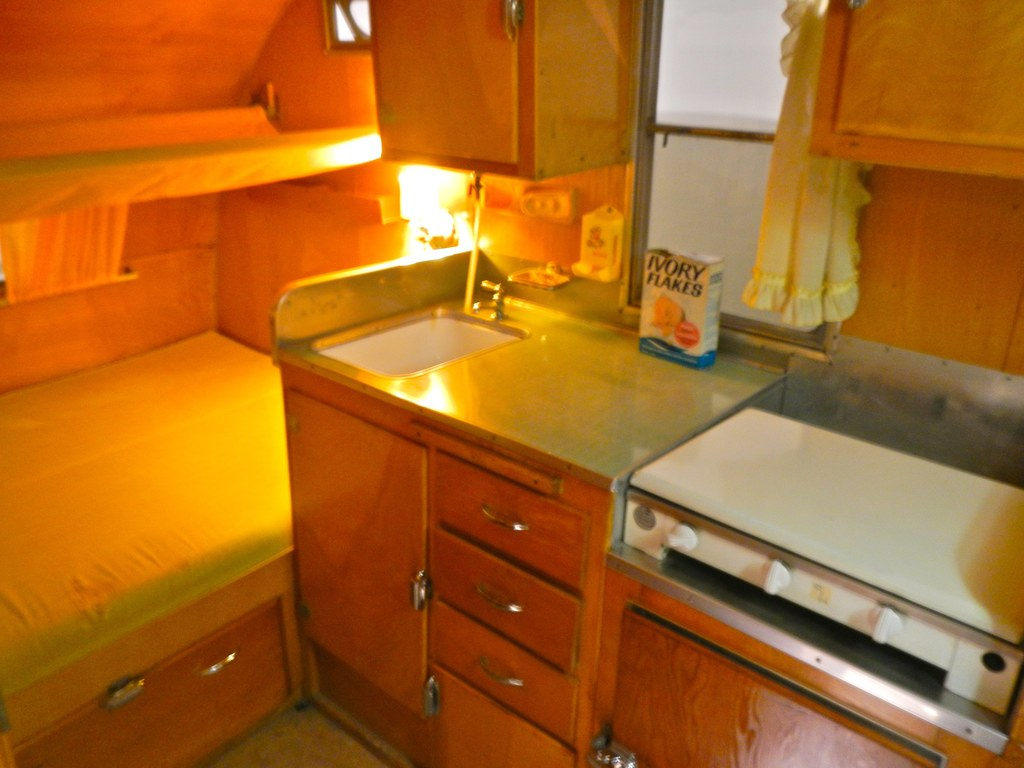cabinet door: (294, 413, 426, 661), (370, 4, 520, 155), (622, 630, 807, 752), (46, 682, 268, 734), (437, 478, 586, 554), (442, 627, 579, 704), (440, 559, 580, 633)
handle: (474, 653, 531, 697), (478, 503, 537, 540), (478, 588, 523, 619), (496, 1, 525, 41), (195, 656, 247, 676), (419, 679, 443, 718), (410, 570, 429, 612)
